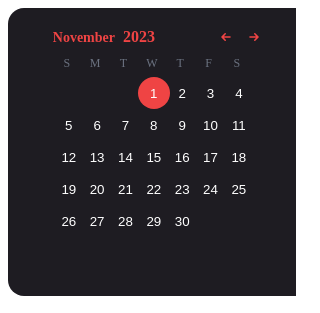
Test case: <DatePicker/> › click onChangeCalendarPeriod button › should click forward button
The width and height of the screenshot is (320, 313).
Click the button with test id "button-forward". click: coordinates (254, 38)
box: [240,28,268,49]
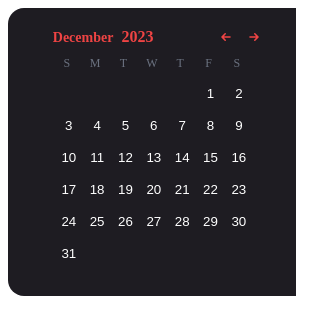
Expected: the text "2023" is shown, [121,28,153,45]
Result: the text "December" is shown at [53,30,113,45]
